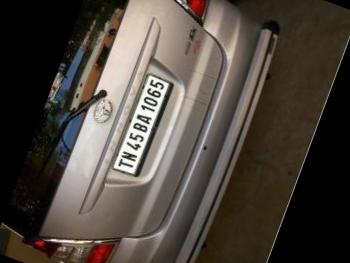plate: (112, 66, 179, 182)
